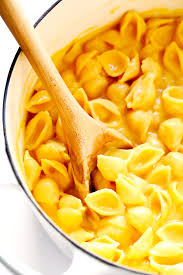macncheese: (39, 19, 178, 244)
